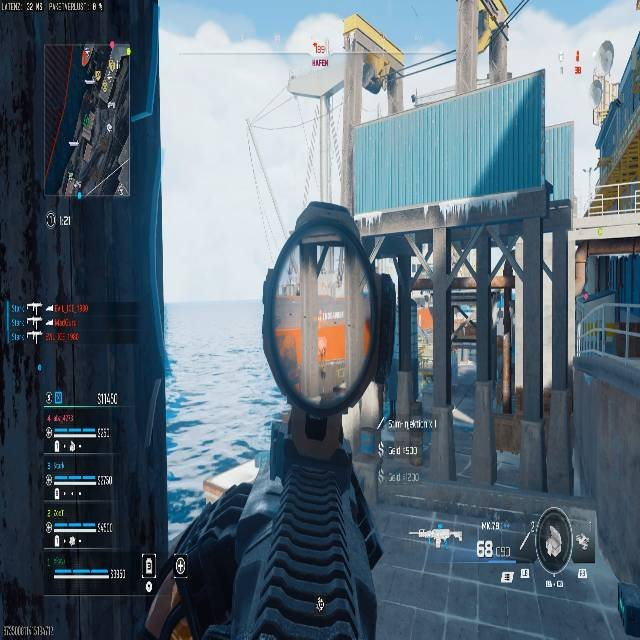player: (318, 336, 326, 359)
